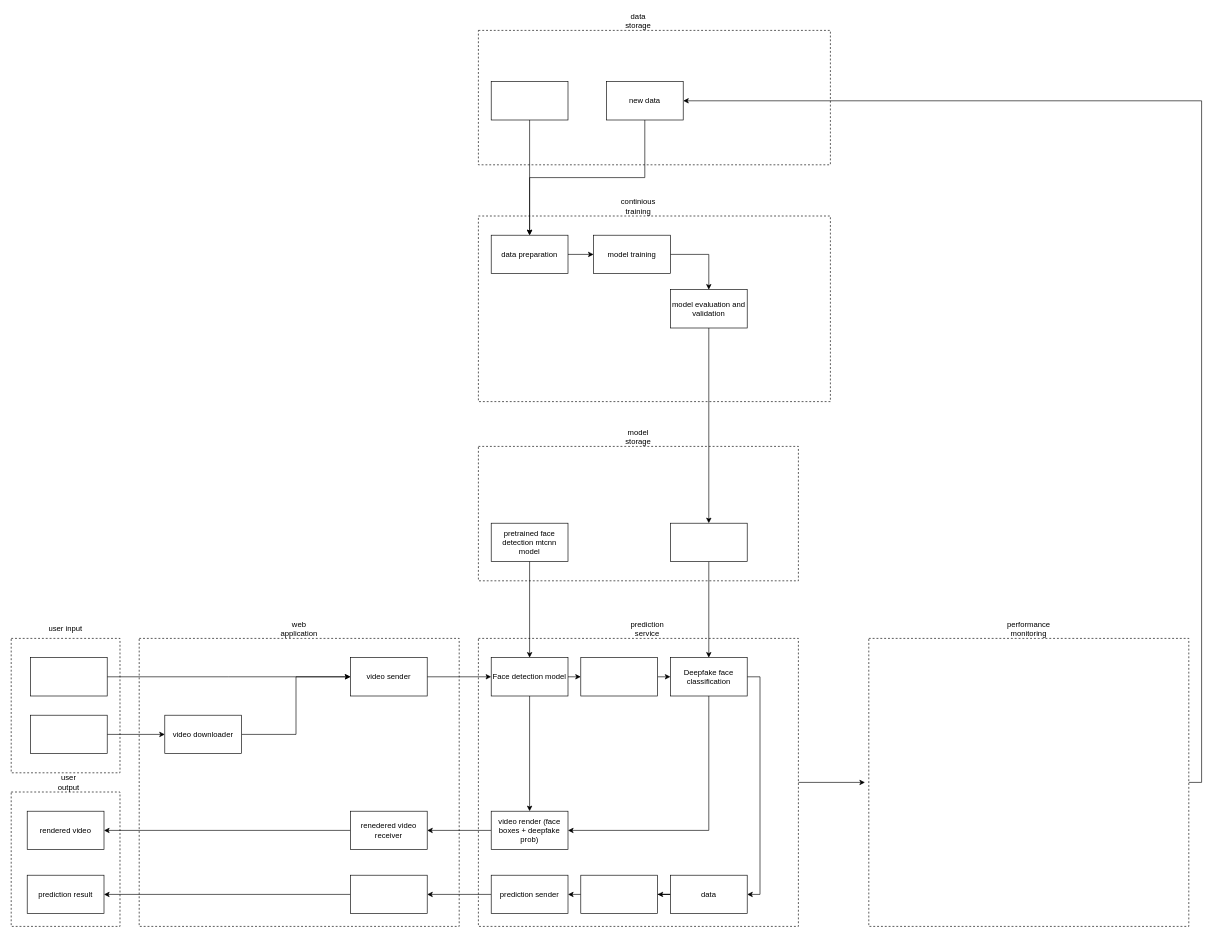
Some shapes in this 1218 by 938 pixel diagram are drawn without their labels. The shapes that lost their labels are listed below. From the top down, each one's centre as x and y in pixels, then its label:
At [529,100]: "deepfake datasets".
At [708,542]: "deepfake classification model".
At [68,676]: "video".
At [619,676]: "Face cropper".
At [68,734]: "video link".
At [388,894]: "prediction receiver".
At [619,894]: "video classification".
